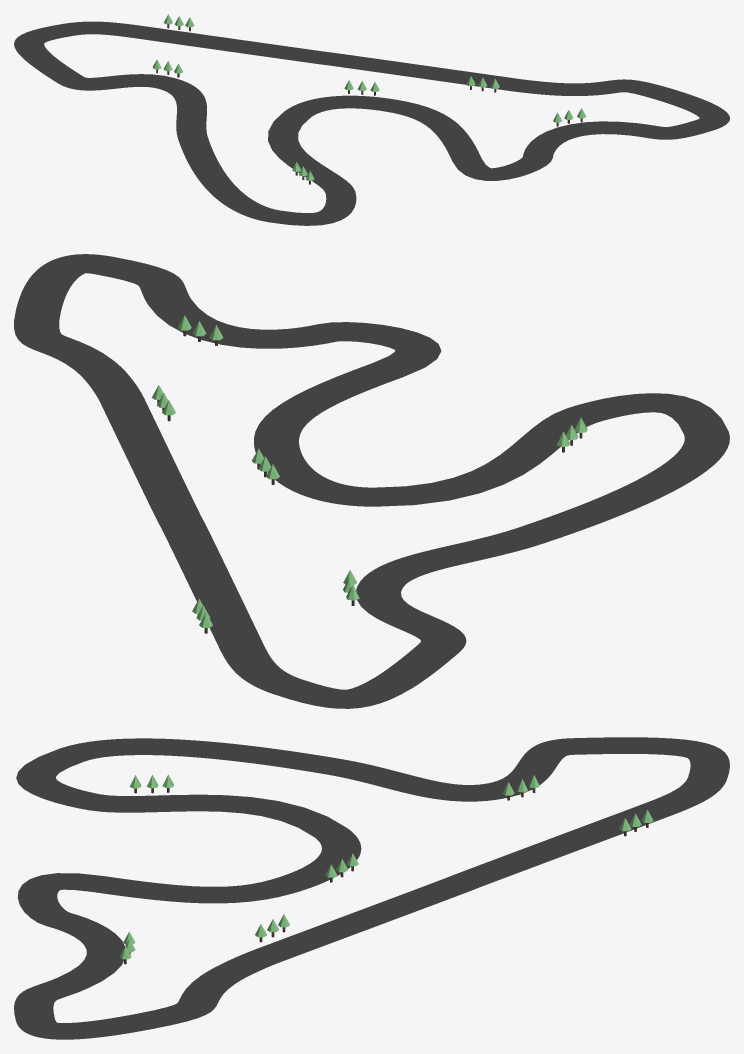
File: track.glb
The picture shows the model from 3 angles, top to bottom: view 1: azimuth 30°, elevation 25°; view 2: azimuth 150°, elevation 25°; view 3: azimuth 270°, elevation 25°; orthographic projection. The views are drawn at different scales.
Visible parts, largest first — view 1: Curve; view 2: Curve; view 3: Curve.
Part boxes in pixels (left/top/right/bottom): Curve: left=14, top=21, right=729, bottom=225; Curve: left=14, top=254, right=729, bottom=708; Curve: left=14, top=737, right=729, bottom=1039.
Size of what is drawn, in the model's own units: 114 by 3.19 by 115.
